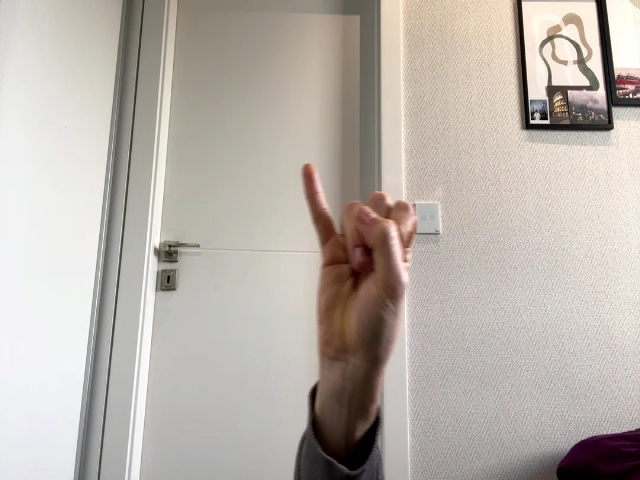I: (302, 164, 418, 377)
